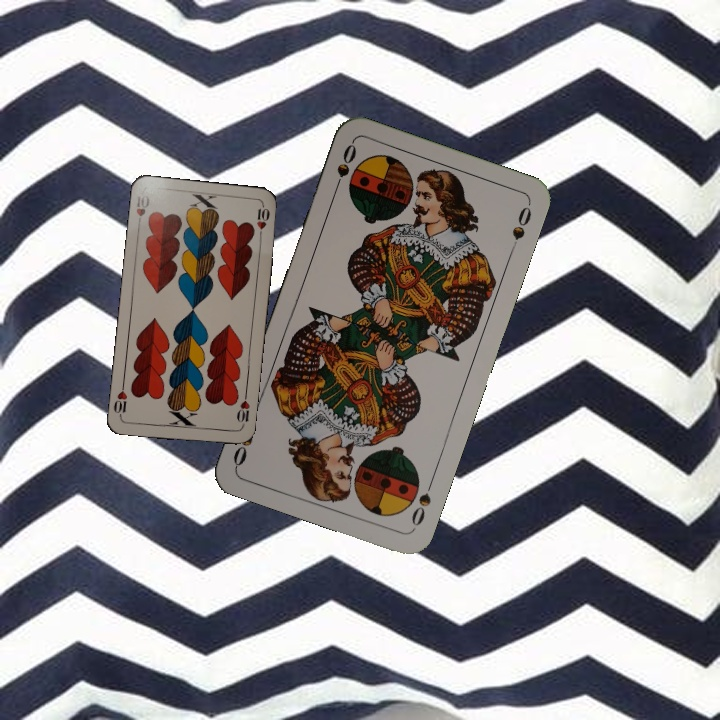H10: (132, 191, 153, 230), (233, 390, 252, 430)
SO: (329, 139, 359, 196), (407, 475, 437, 532)
